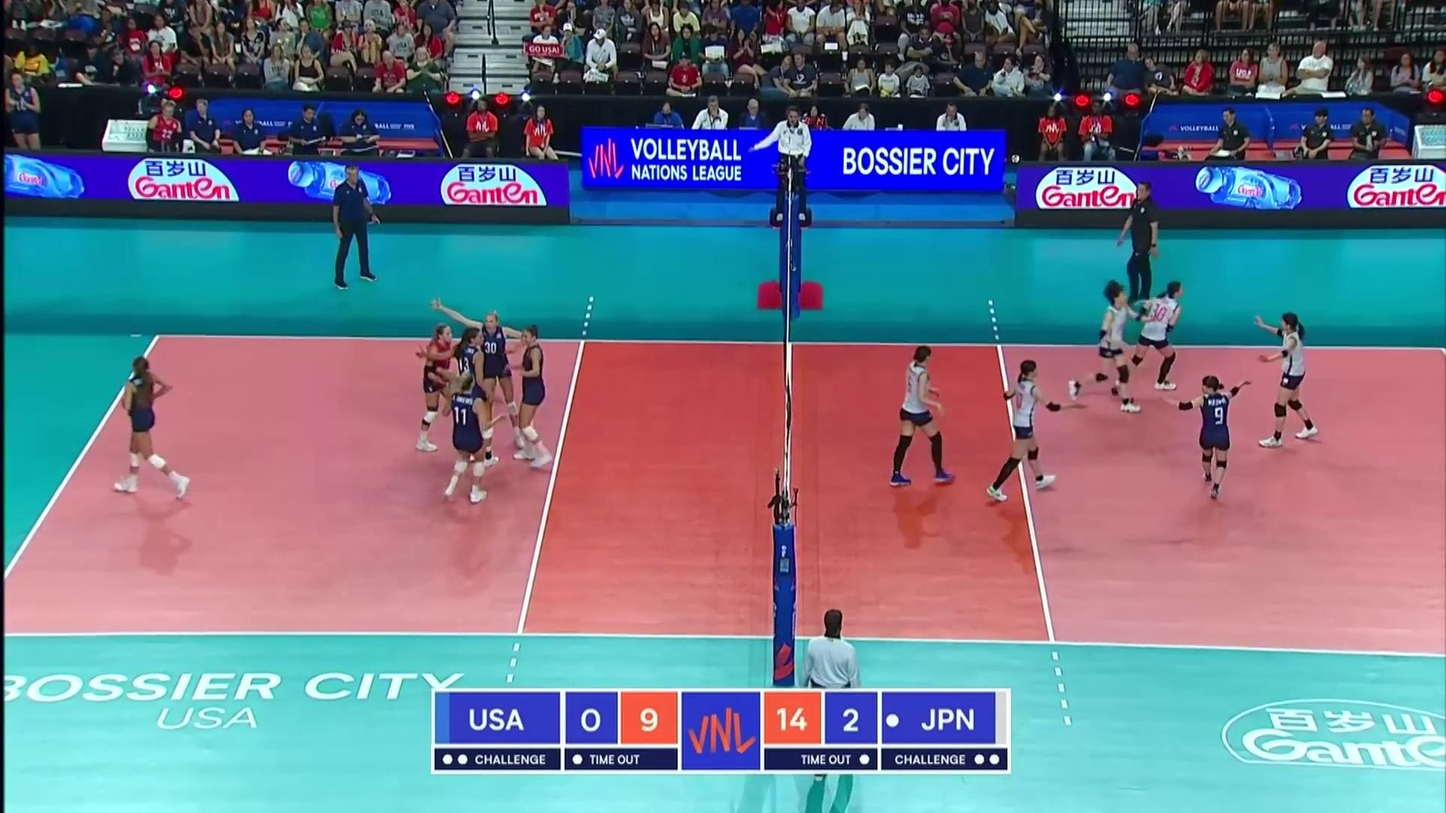player: (439, 299, 534, 448), (114, 354, 190, 503), (991, 357, 1068, 499), (1166, 375, 1252, 502), (435, 326, 507, 467), (1251, 311, 1318, 450), (1069, 282, 1140, 413), (1109, 281, 1187, 393), (893, 346, 953, 487), (436, 371, 496, 504), (411, 321, 463, 455), (509, 324, 557, 466)
refree: (807, 611, 861, 785), (760, 106, 813, 221)
